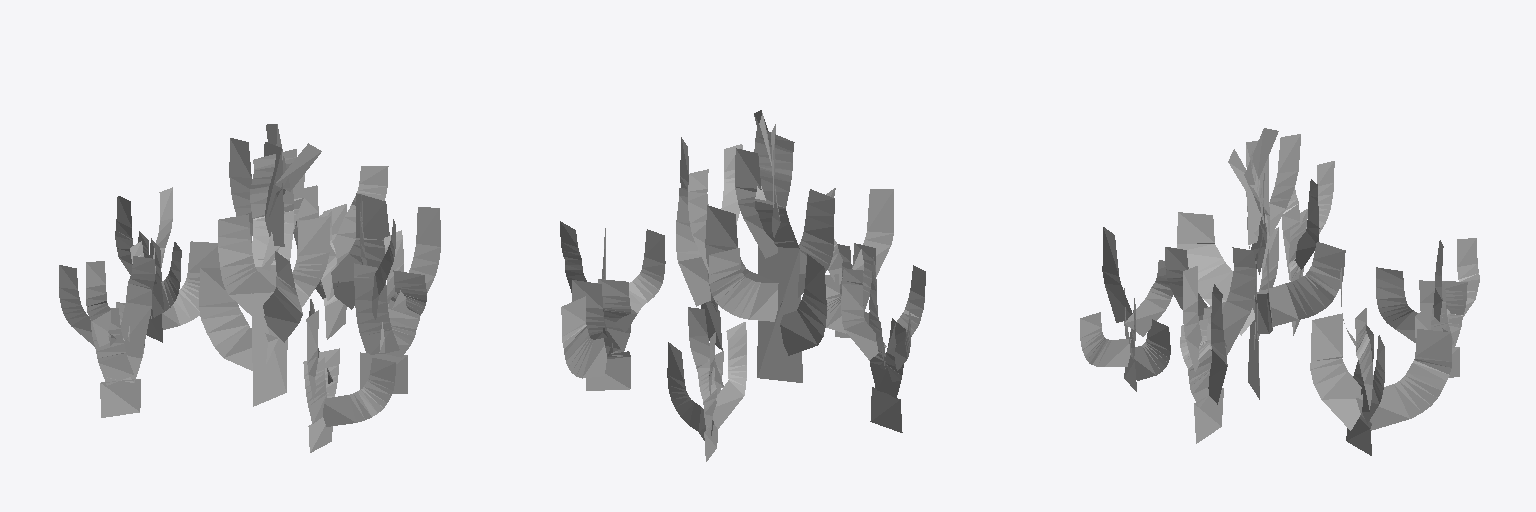
Rendered from ChollaCactus_Cluster.obj.
3 views of the same model, side by side, from view 1: azimuth 30°, elevation 25°; view 2: azimuth 150°, elevation 25°; view 3: azimuth 270°, elevation 25° (orthographic).
Visible parts, largest first — view 1: LOD0SG; view 2: LOD0SG; view 3: LOD0SG.
Boxes of the visible parts, x1,y1,x2,y2 form: LOD0SG: [59, 124, 440, 452]; LOD0SG: [560, 110, 925, 461]; LOD0SG: [1080, 128, 1479, 455].
Bounding box in the file's own units: 7.91 × 5.98 × 8.06.